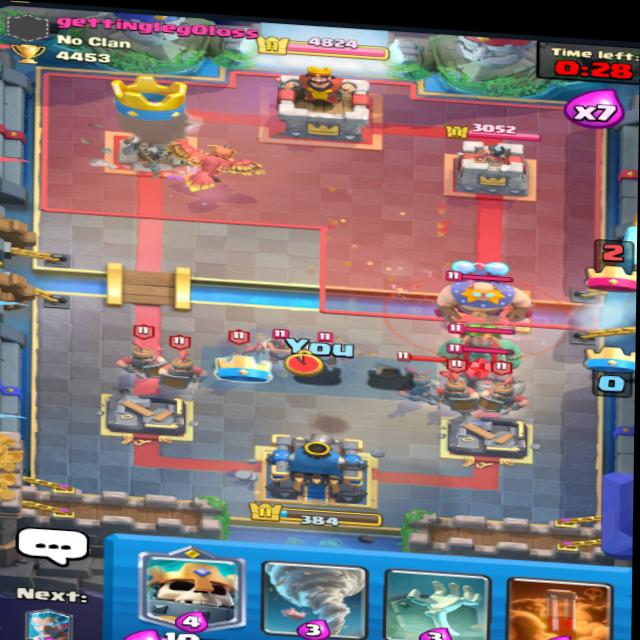Ebarbs: (262, 326, 299, 365)
Egiant: (433, 259, 537, 328)
Goblingiant: (444, 316, 522, 375)
Golem: (433, 343, 534, 415)
Royalrecruits: (159, 332, 214, 391), (382, 345, 433, 408), (477, 364, 533, 420), (428, 365, 484, 412), (109, 326, 162, 373)
